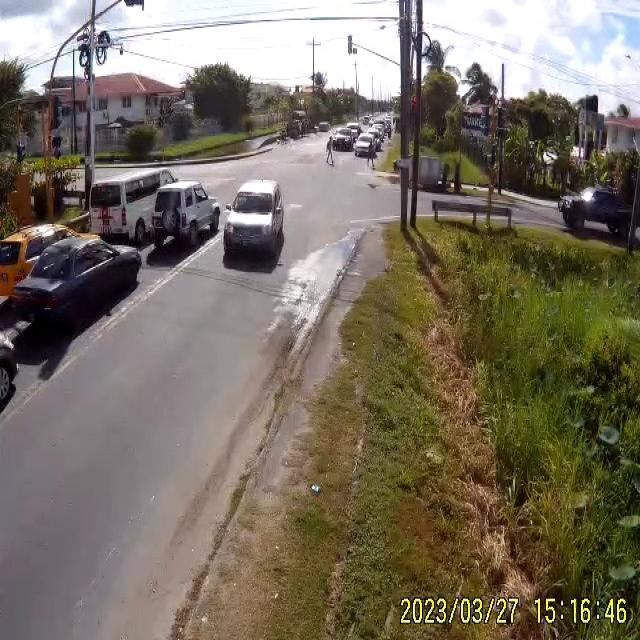car: (4, 234, 142, 343), (0, 222, 81, 300), (90, 170, 176, 242), (223, 181, 288, 262), (149, 182, 220, 248), (561, 187, 636, 238), (355, 134, 377, 158), (334, 129, 354, 148), (314, 122, 329, 134)
